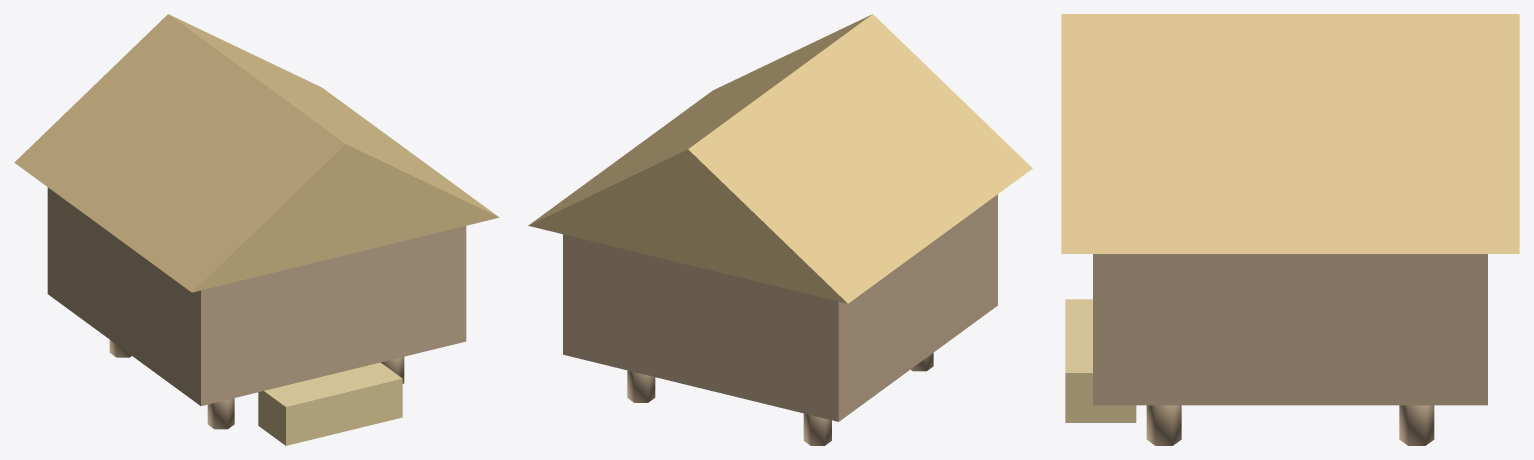
Rendered from granary.glb.
3 renders of one model, left to right at view 1: azimuth 30°, elevation 25°; view 2: azimuth 150°, elevation 25°; view 3: azimuth 270°, elevation 25°, orthographic. The views are drawn at different scales.
Visible parts, largest first — view 1: granary_roof, granary_wood, granary_grain; view 2: granary_roof, granary_wood; view 3: granary_roof, granary_wood, granary_grain.
Boxes of the visible parts, x1=… form: granary_roof: x1=14, y1=14, x2=499, y2=292; granary_wood: x1=47, y1=187, x2=466, y2=429; granary_grain: x1=258, y1=362, x2=402, y2=445; granary_roof: x1=528, y1=14, x2=1032, y2=303; granary_wood: x1=563, y1=194, x2=997, y2=445; granary_roof: x1=1061, y1=14, x2=1519, y2=253; granary_wood: x1=1093, y1=254, x2=1487, y2=445; granary_grain: x1=1065, y1=299, x2=1136, y2=422.
Bounding box in the file's own units: 1.93 × 1.73 × 1.93.
